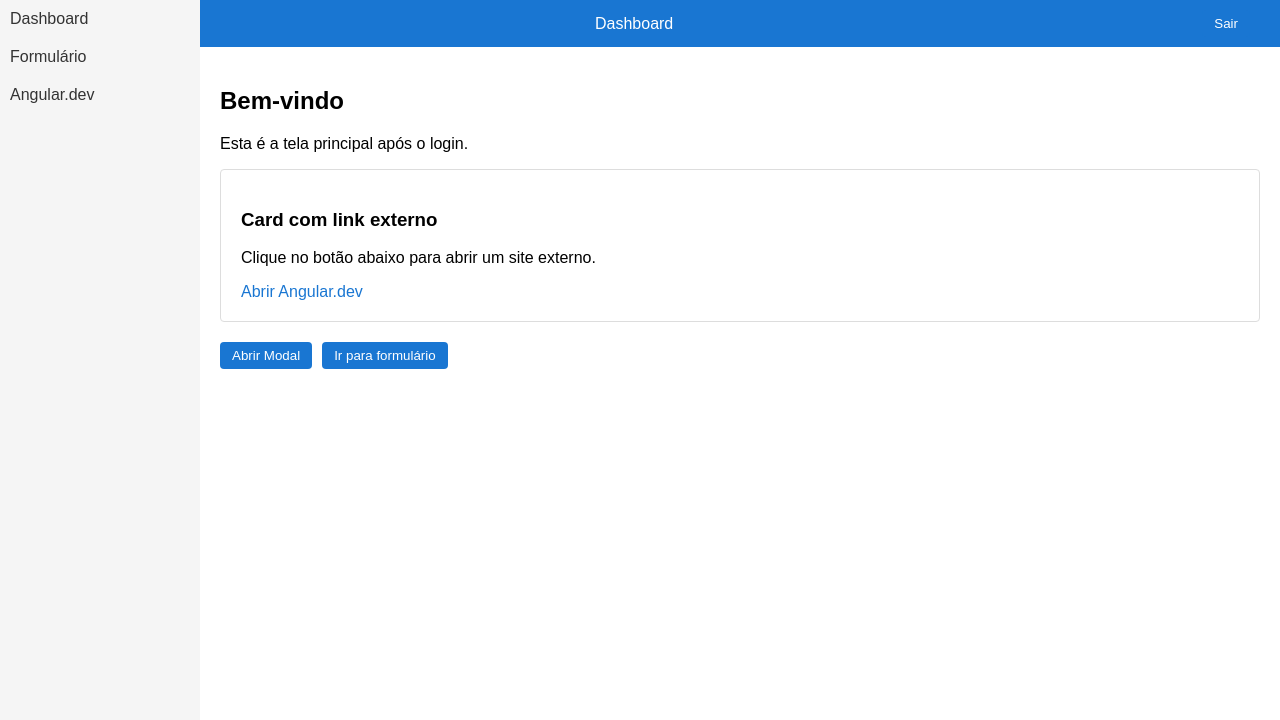
Scenario: Teste do Modal › deve abrir e fechar o modal corretamente
// Abre o modal
Click the button "Abrir Modal" at coordinates (266, 356), box x1=220 y1=342 x2=312 y2=369
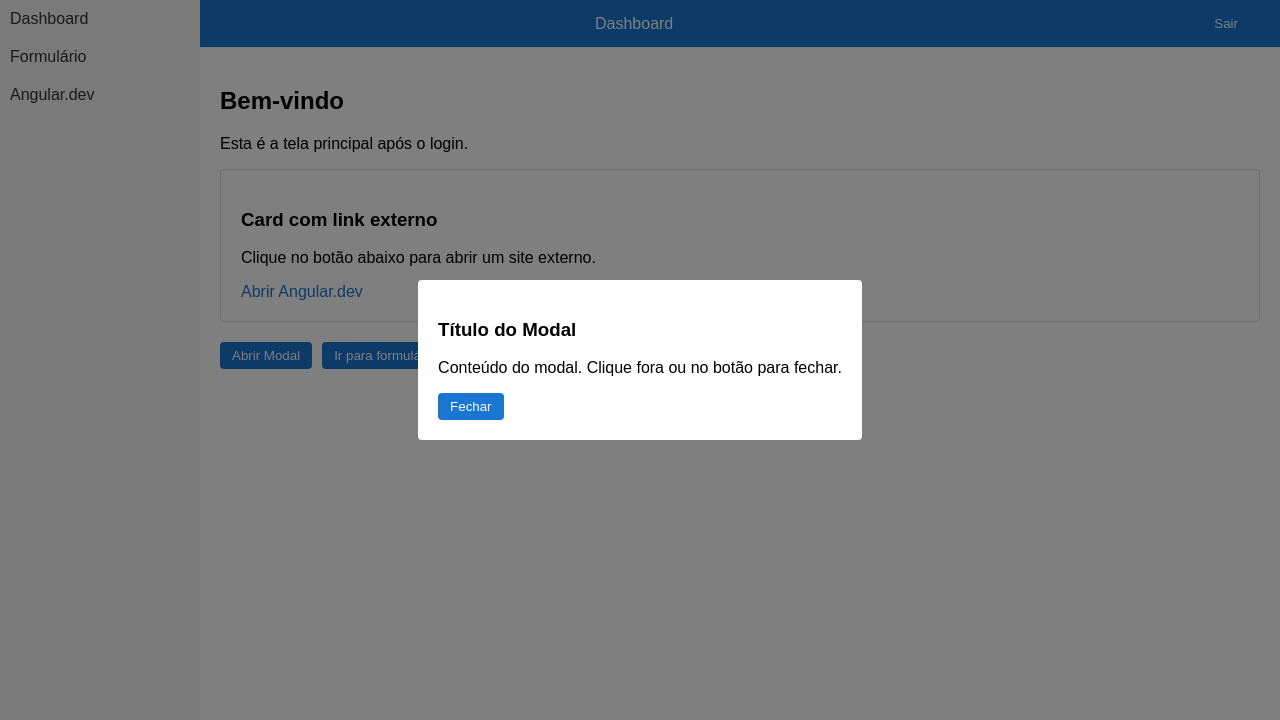
expect the element with class "modal" is shown: met
expect the heading "Título do Modal" is shown: met, box x1=438 y1=318 x2=576 y2=340
expect the text "Conteúdo do modal. Clique fora ou no botão para fechar." is shown: met, box x1=438 y1=359 x2=842 y2=377
Click the button "Fechar" at coordinates (471, 407), box x1=438 y1=393 x2=504 y2=420
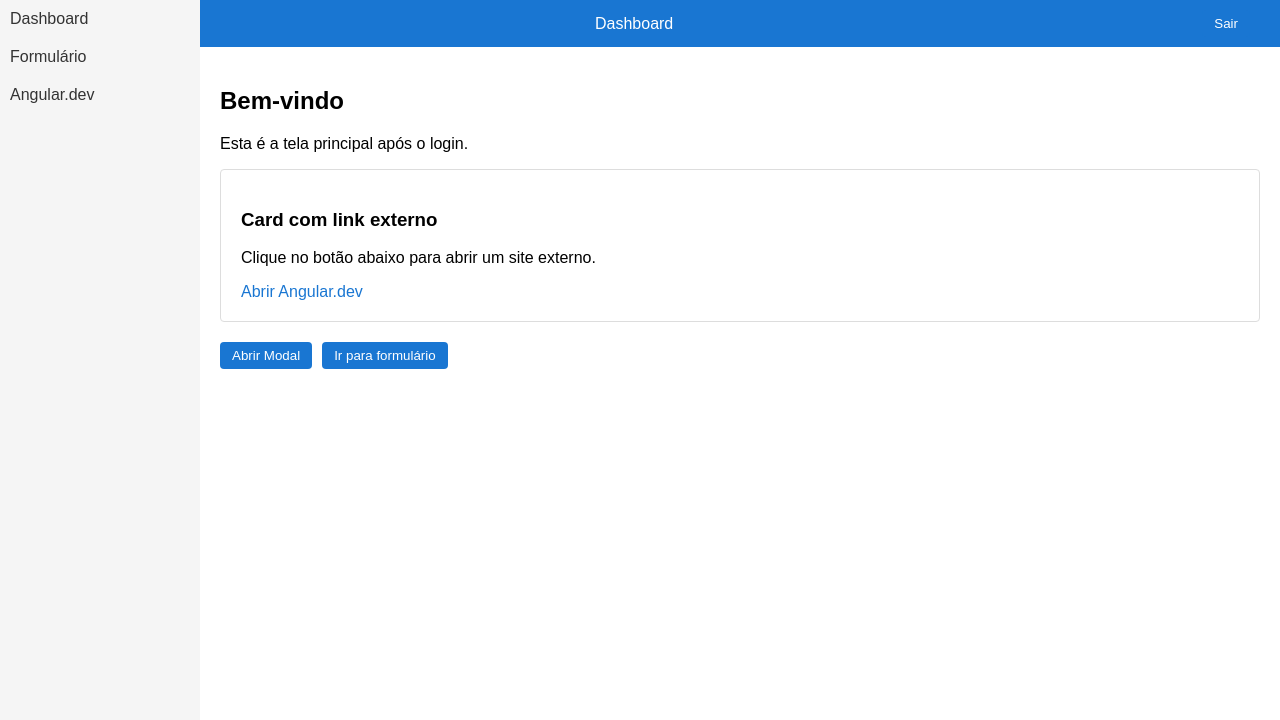
expect the element with class "modal" is gone: met
